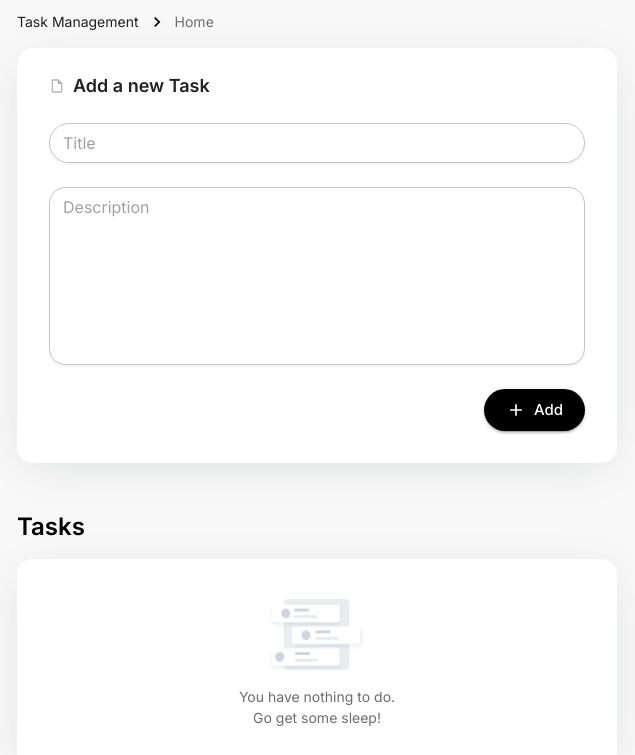
Test case: task creation form › attempting to submit before filling the fields shows error messages
Click the button with id "create-task-button": (535, 410) 484,389 -> 585,431
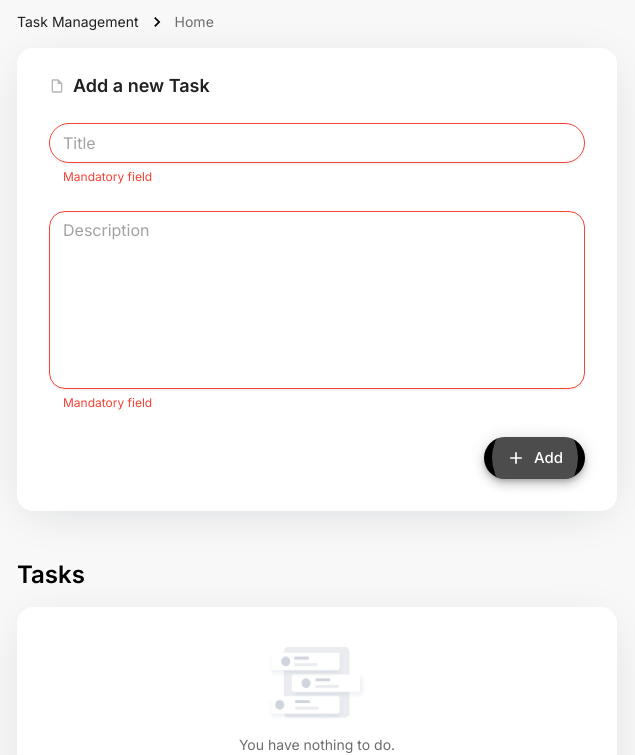
Now the text "Mandatory field" is shown 2 times, box 63,169 -> 152,184; 63,395 -> 152,410
